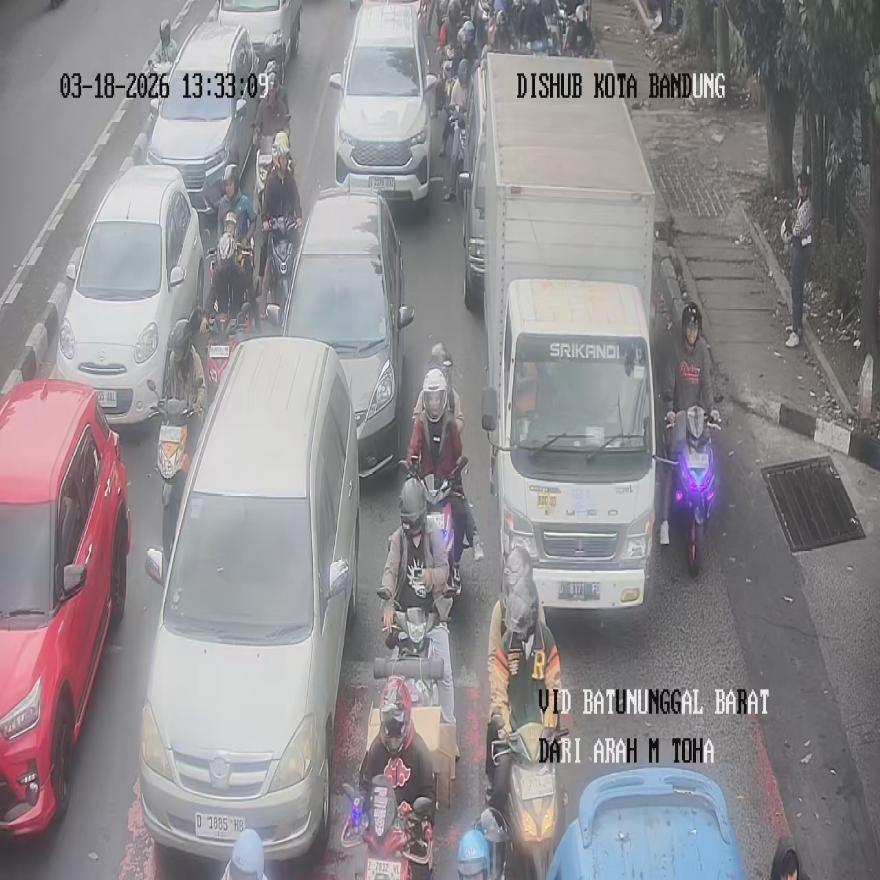Motor: (138, 337, 360, 864), (0, 378, 131, 834), (281, 176, 413, 477), (56, 166, 206, 427), (329, 0, 440, 209), (544, 766, 744, 880), (144, 18, 254, 214), (217, 0, 300, 88)
Truk: (489, 724, 566, 878), (375, 584, 453, 724), (341, 780, 436, 880), (666, 407, 720, 577), (146, 380, 196, 560), (207, 230, 253, 339), (257, 215, 300, 331), (458, 805, 509, 879), (204, 314, 237, 402), (255, 131, 286, 209), (441, 105, 465, 202)
